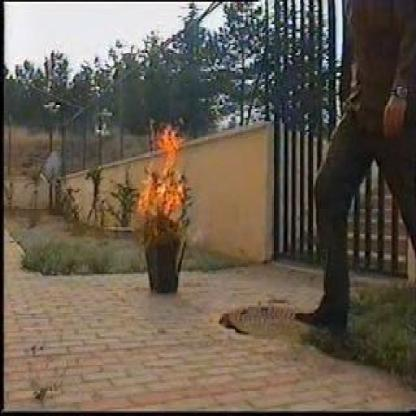-: (188, 72, 203, 112)
foggia-v2-map80-epoch100 - v1 4323: (138, 123, 188, 218)
